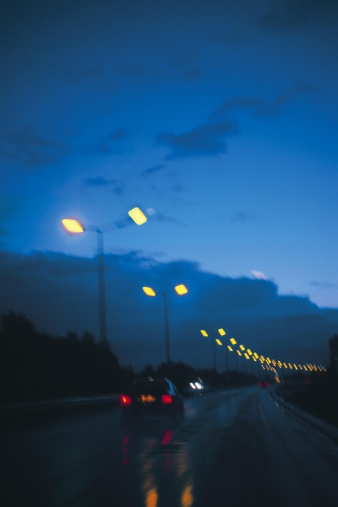car: (115, 371, 191, 433)
